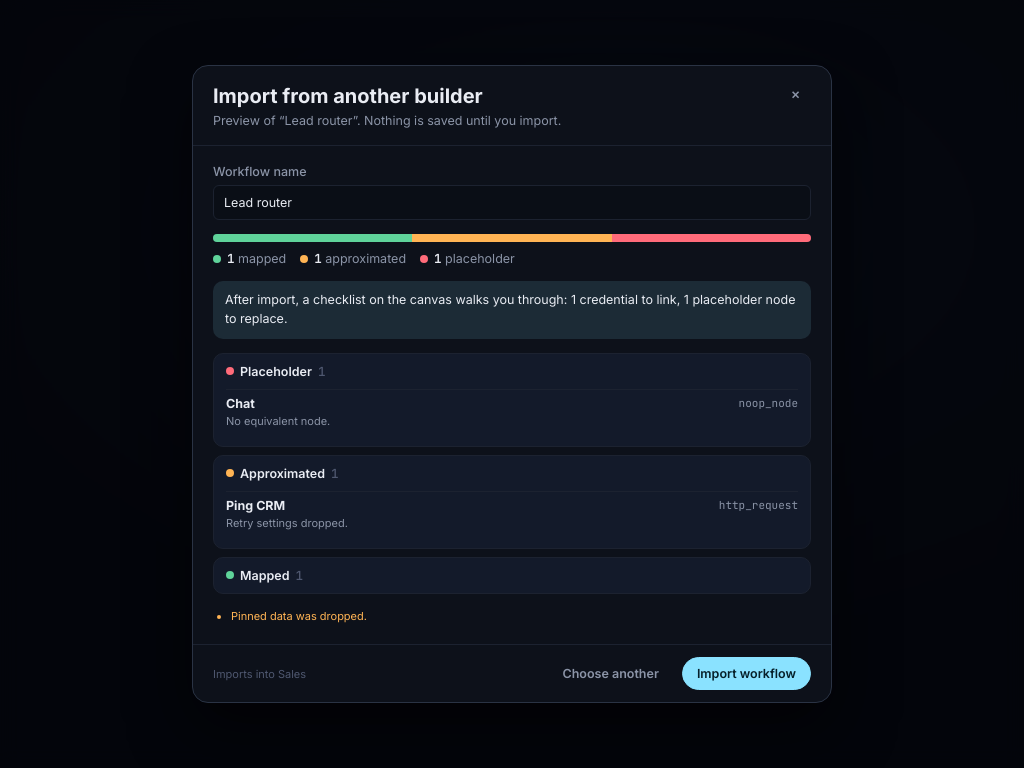
ExternalImportDialog › keeps the dialog open with the error when the import fails
Click the button "Import workflow" at (746, 674), box [682,657,811,690]
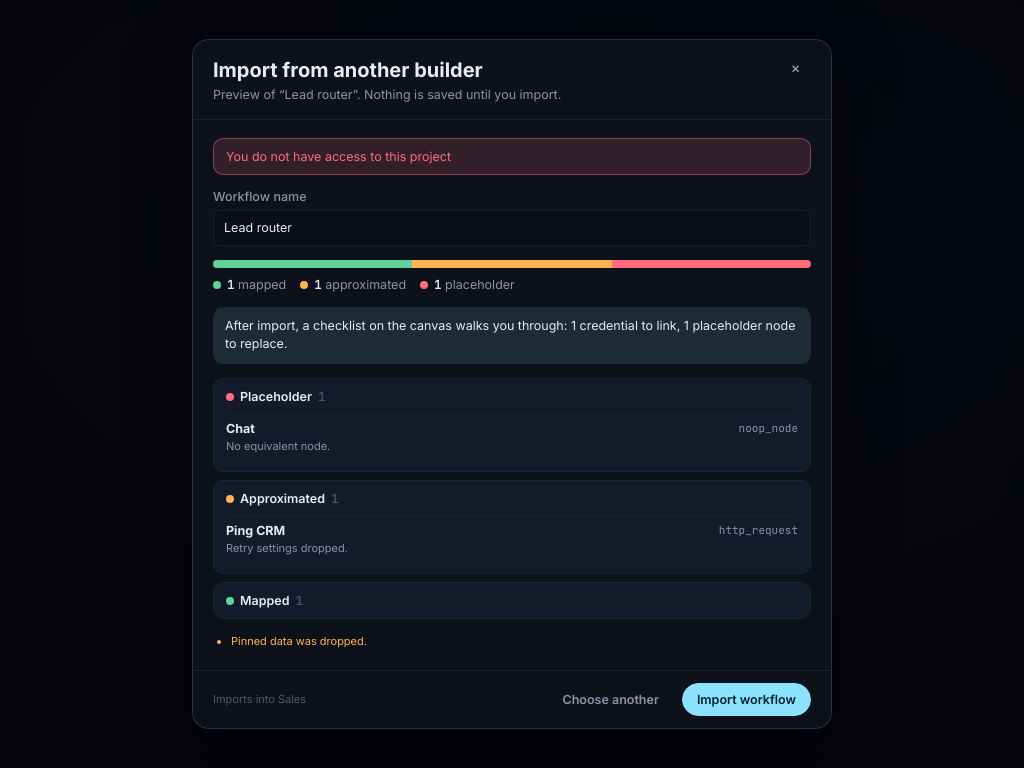
expect the button "Import workflow" is enabled: met, box [682,683,811,716]
expect the message reads "You do not have access to this project": met, box [226,149,451,164]
